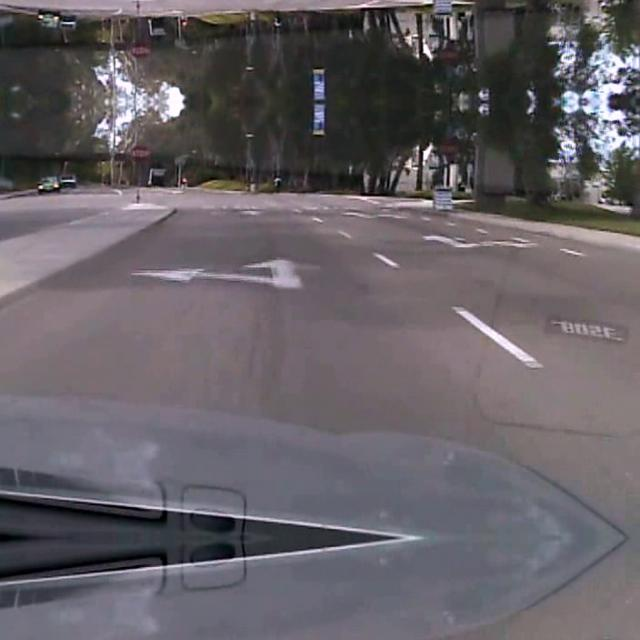stop: (437, 136, 458, 156), (437, 46, 458, 66), (130, 141, 150, 161), (130, 41, 150, 61)
